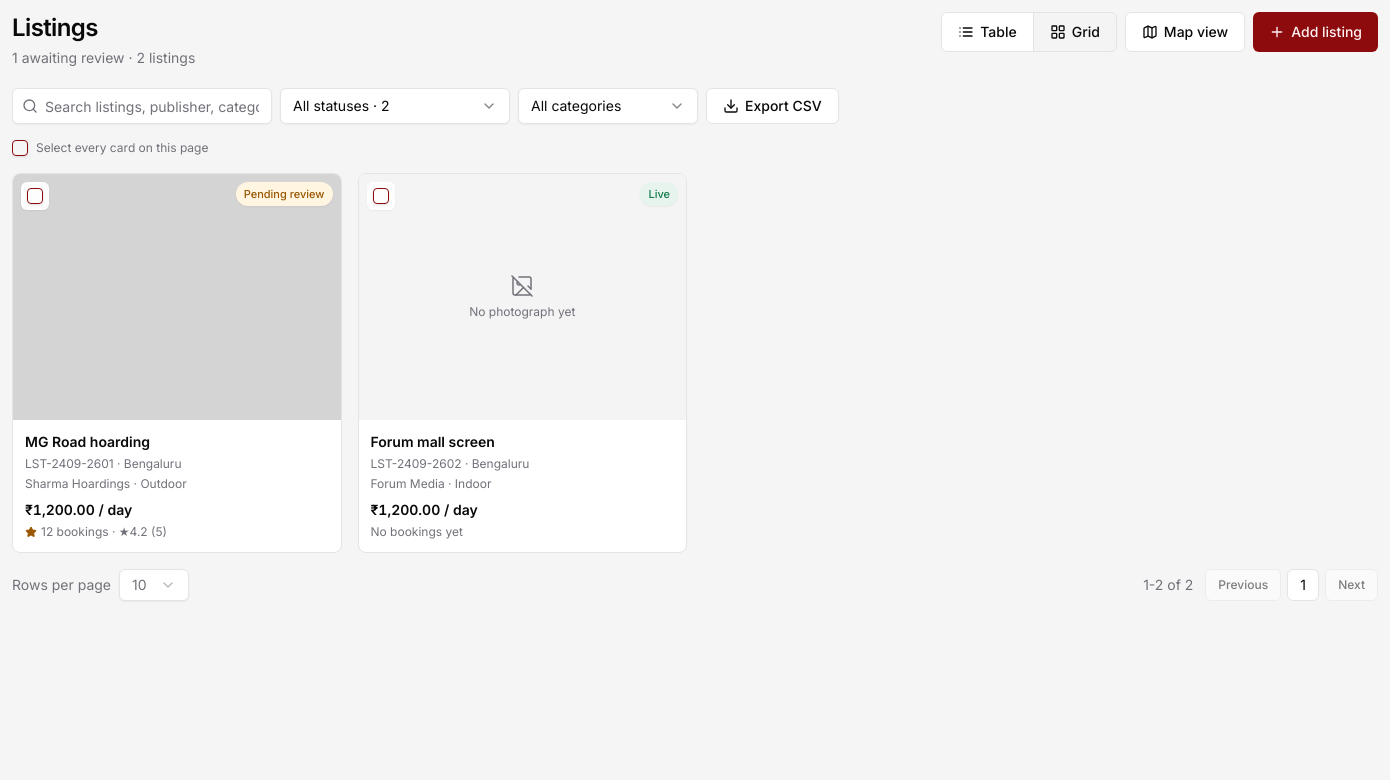
Test: bulk selection in the grid › selects every card on the page at once
This screenshot has width=1390, height=780.
What coordinates should you click on to do the following:
click the checkbox named "Select all rows"
I would click on:
 (20, 148)
Its box is [12,140,28,156].
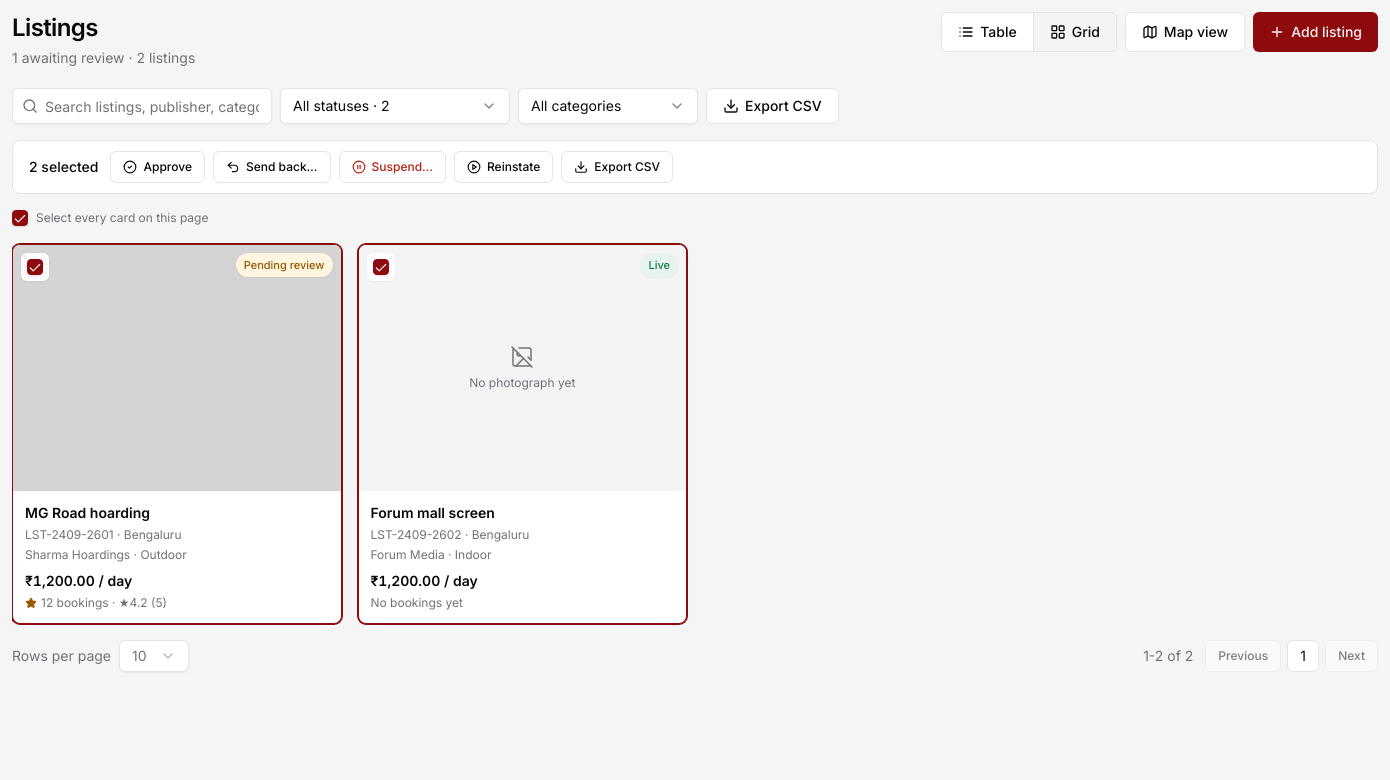
Check: the text "2 selected" is shown, box [29,157,98,177]
